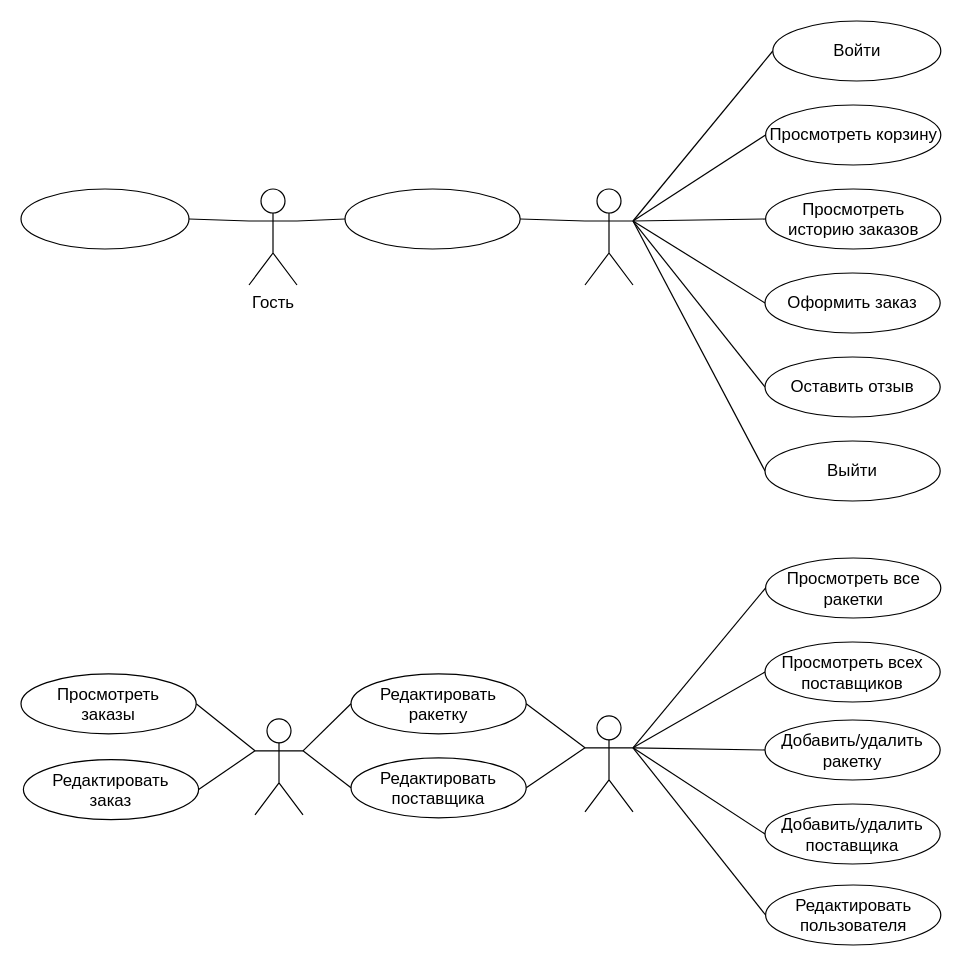
The diagram is 962 pixels wide and 966 high, and some of its shapes have lost their labels. Here are the shapes that lost their labels. From the top down, the centre of each, then its label:
At (104,218): "Зарегестрироваться".
At (432,218): "Просмотреть каталог".
At (608,236): "Авторизованный клиент".
At (278,766): "Продаввец".
At (608,763): "Администратор".
